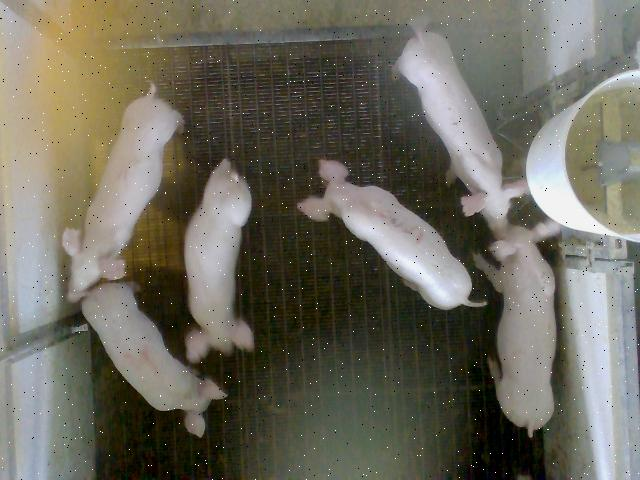pig-3: (298, 161, 485, 310)
pig-4: (82, 283, 226, 436)
